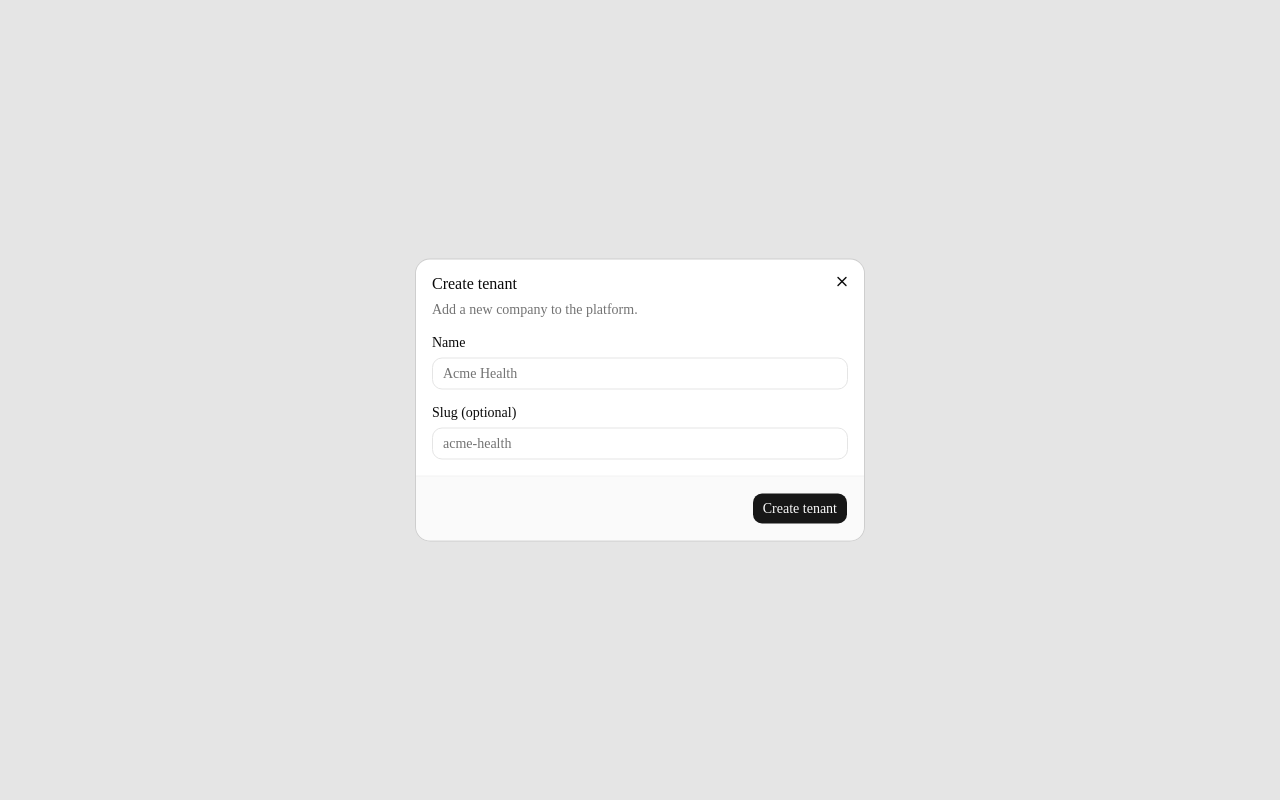
Test: TenantFormDialog › blocks creation and shows a validation error for an empty name
Step 1. Click the button "Create tenant" → [800, 508], box [752,492,848,524]
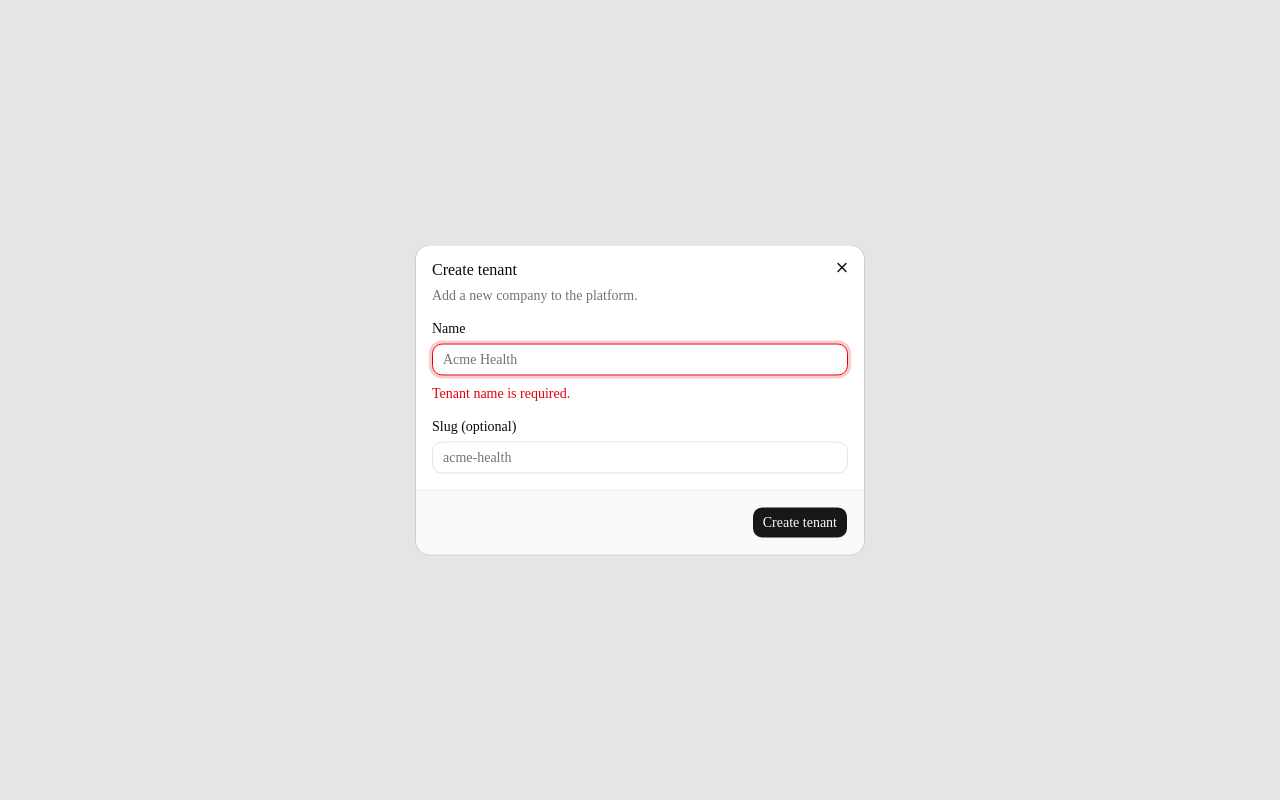
Result: the text "Tenant name is required." is shown at [432,386,570,400]
